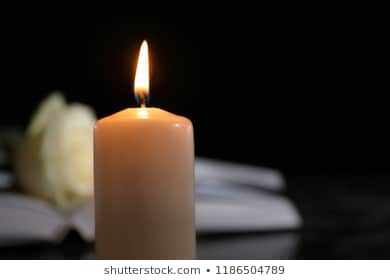Fire: (132, 36, 153, 108)
